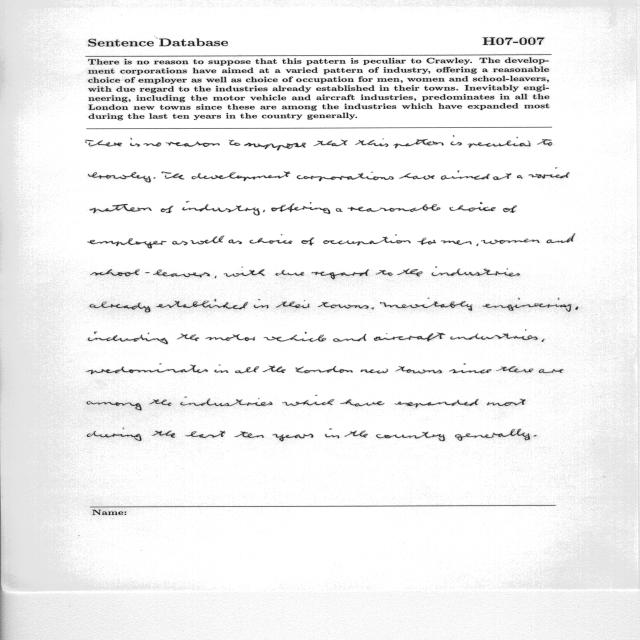word: (86, 364, 208, 375), (483, 297, 572, 312), (361, 364, 492, 374), (87, 397, 187, 410), (86, 364, 208, 374), (380, 298, 472, 311), (182, 201, 260, 215), (88, 332, 168, 345), (455, 428, 530, 441), (323, 235, 411, 246), (450, 329, 538, 340), (90, 269, 210, 277), (156, 299, 248, 309), (192, 172, 291, 181), (431, 267, 520, 277), (297, 172, 394, 181), (88, 238, 166, 248), (348, 204, 441, 212), (180, 398, 273, 406), (272, 202, 331, 214), (87, 428, 141, 441), (468, 137, 531, 148), (395, 399, 478, 407), (90, 302, 150, 313), (374, 333, 445, 342), (88, 172, 151, 182), (376, 432, 445, 441), (264, 332, 326, 342), (312, 269, 369, 279), (90, 204, 152, 213), (244, 143, 306, 151), (441, 170, 490, 180), (450, 202, 496, 212), (529, 168, 570, 179), (394, 139, 444, 148), (250, 234, 293, 244), (224, 267, 265, 277), (296, 366, 353, 373), (283, 399, 335, 406), (318, 302, 369, 309), (481, 239, 540, 245), (340, 399, 384, 407), (205, 334, 255, 341), (273, 434, 314, 442), (166, 141, 220, 147), (191, 236, 225, 245), (356, 138, 389, 147), (547, 234, 575, 244), (186, 431, 226, 438), (276, 300, 310, 308), (487, 399, 525, 406), (333, 334, 366, 342), (399, 173, 435, 180), (497, 366, 534, 372), (86, 140, 122, 146), (314, 140, 348, 146), (235, 431, 264, 438), (162, 172, 185, 180), (263, 365, 286, 373), (397, 269, 423, 276), (235, 367, 259, 374), (152, 431, 175, 438), (345, 431, 368, 438), (441, 240, 472, 245), (177, 334, 199, 341), (275, 270, 304, 275), (325, 429, 339, 439), (254, 299, 269, 308), (493, 173, 512, 180), (418, 238, 436, 245), (450, 136, 462, 146), (503, 205, 517, 213), (538, 139, 553, 146), (301, 238, 314, 246), (376, 270, 393, 276), (539, 369, 564, 373), (161, 205, 173, 213), (144, 142, 162, 147), (130, 138, 140, 146), (229, 140, 240, 146), (172, 241, 188, 245), (228, 240, 242, 244), (215, 370, 229, 373), (336, 208, 342, 212), (517, 175, 523, 178), (542, 338, 545, 342), (575, 307, 578, 310), (477, 243, 479, 246), (371, 308, 374, 310), (154, 177, 156, 179), (263, 210, 265, 212), (215, 276, 217, 278), (219, 364, 221, 366), (534, 435, 537, 436), (315, 395, 317, 396)
